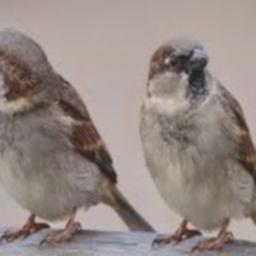Sparrow: (0, 29, 159, 246), (138, 34, 256, 252)
